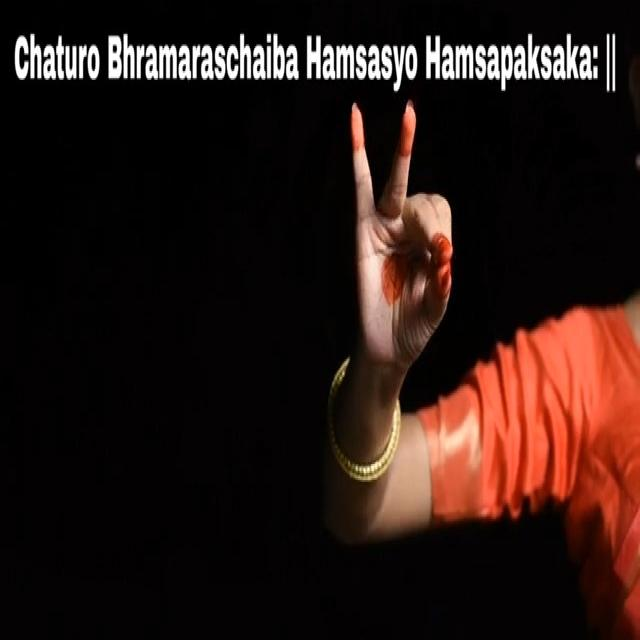Bhramara: (334, 94, 478, 378)
bangle: (324, 384, 406, 495)
text: (10, 26, 618, 94)
